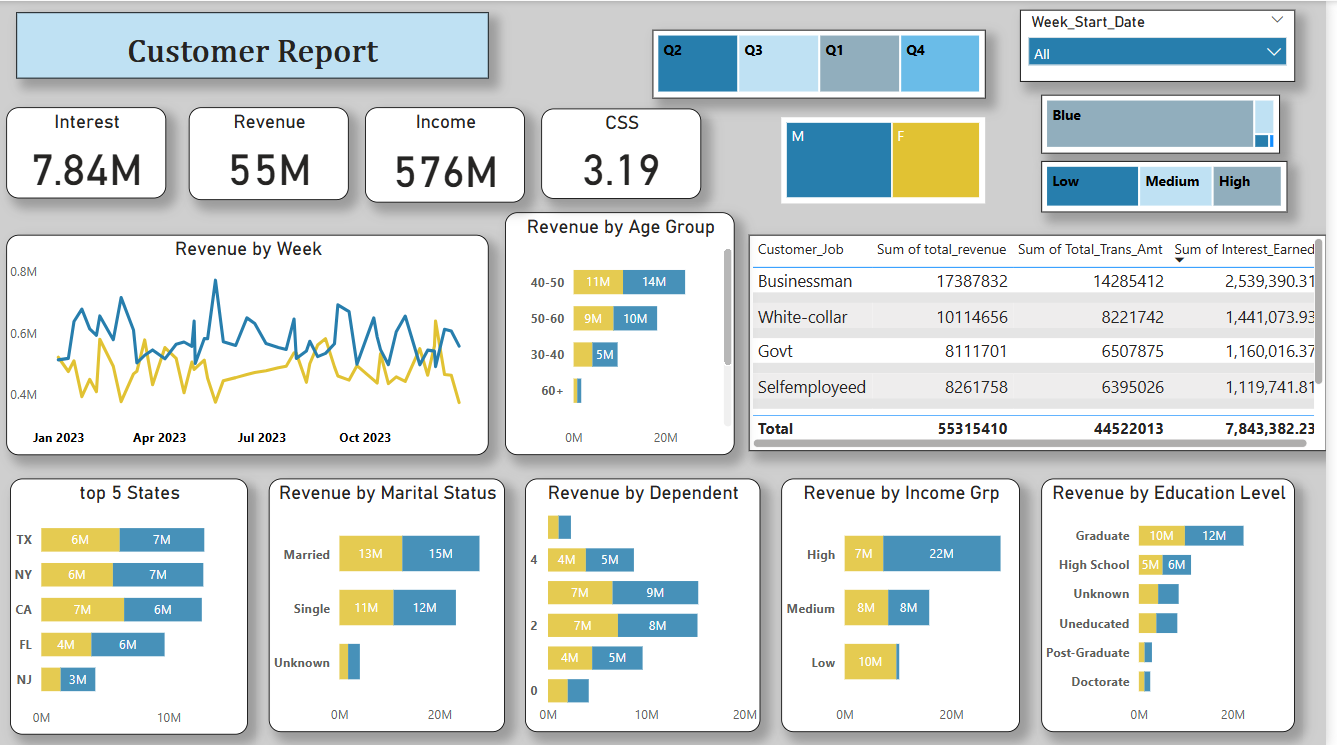

Layout of this report page (visuals, bound fields, positions):
{"tool":"powerbi","page":{"name":"customer_trans_report","canvas":[1280,720],"ordinal":1},"visuals":[{"type":"barChart","title":"Revenue by Income Grp","fields":{"Category":["customer.income_grp"],"Y":["Sum(credit_card.total_revenue)"],"Series":["customer.Gender"]},"box":[754,460.9,230.4,244.9],"z":0},{"type":"tableEx","fields":{"Values":["customer.Customer_Job","Sum(credit_card.total_revenue)","Sum(credit_card.Total_Trans_Amt)","Sum(credit_card.Interest_Earned)"]},"box":[722.7,225,557.6,209.1],"z":1000},{"type":"textbox","box":[15.7,10.9,456,63.9],"z":2000},{"type":"slicer","fields":{"Values":["credit_card.Week_Start_Date"]},"box":[984.5,8.4,265.4,70],"z":3000},{"type":"treemap","fields":{"Group":["credit_card.Qtr"],"Values":["CountNonNull(credit_card.Client_Num)"]},"box":[629.8,28.1,321.6,66],"z":4000},{"type":"treemap","fields":{"Group":["credit_card.Card_Category"],"Values":["CountNonNull(credit_card.Client_Num)"]},"box":[1005,90.5,230.4,56.7],"z":5000},{"type":"treemap","fields":{"Group":["customer.income_grp"],"Values":["CountNonNull(credit_card.Client_Num)"]},"box":[1005,154.4,237.7,49.5],"z":6000},{"type":"lineChart","title":"Revenue by Week","fields":{"Y":["Sum(credit_card.total_revenue)"],"Series":["customer.Gender"],"Category":["credit_card.Week_Start_Date.Variation.Date Hierarchy.Year","credit_card.Week_Start_Date.Variation.Date Hierarchy.Quarter","credit_card.Week_Start_Date.Variation.Date Hierarchy.Month","credit_card.Week_Start_Date.Variation.Date Hierarchy.Day"]},"box":[6.1,225,465.9,212.8],"z":7000},{"type":"treemap","fields":{"Group":["customer.Gender"],"Values":["Sum(credit_card.total_revenue)"]},"box":[754.5,112.5,196.9,83.2],"z":8000},{"type":"barChart","title":"Revenue by Marital Status","fields":{"Y":["Sum(credit_card.total_revenue)"],"Category":["customer.Marital_Status"],"Series":["customer.Gender"]},"box":[259.4,460.9,228,244.9],"z":9000},{"type":"barChart","title":"Revenue by Dependent","fields":{"Y":["Sum(credit_card.total_revenue)"],"Category":["customer.Dependent_Count"],"Series":["customer.Gender"]},"box":[506.7,460.9,226.8,244.9],"z":10000},{"type":"barChart","title":"Revenue by Age Group","fields":{"Category":["customer.Age_group"],"Y":["Sum(credit_card.total_revenue)"],"Series":["customer.Gender"]},"box":[487.4,203.9,222,234],"z":11000},{"type":"card","title":"Revenue","fields":{"Values":["Sum(credit_card.total_revenue)"]},"box":[182.2,102.5,154.4,89.3],"z":12000},{"type":"card","title":"Interest","fields":{"Values":["Sum(credit_card.Interest_Earned)"]},"box":[6,102.5,154.4,88.1],"z":13000},{"type":"card","title":"Income","fields":{"Values":["Sum(customer.Income)"]},"box":[352.3,102.5,154.4,91.7],"z":14000},{"type":"card","title":"CSS","fields":{"Values":["Avg(customer.Cust_Satisfaction_Score)"]},"box":[522.4,103.8,154.4,86.9],"z":15000},{"type":"barChart","title":"top 5 States","fields":{"Category":["customer.state_cd"],"Y":["Sum(credit_card.total_revenue)"],"Series":["customer.Gender"]},"box":[9.7,460.9,229.2,247.3],"z":16000},{"type":"barChart","title":"Revenue by Education Level","fields":{"Category":["customer.Education_Level"],"Y":["Sum(credit_card.total_revenue)"],"Series":["customer.Gender"]},"box":[1005,460.9,244.9,244.9],"z":17000}]}

Visuals, with their boxes in screenshot pixels (x1, y1, x2, y2), scaled from the page's 1280x720 canvas onto the 1337x745 screenshot:
"Revenue by Income Grp" barChart: 788,477,1028,730
tableEx - customer.Customer_Job x Sum(credit_card.total_revenue): 755,233,1336,449
textbox: 16,11,493,77
slicer - credit_card.Week_Start_Date: 1028,9,1306,81
treemap - credit_card.Qtr x CountNonNull(credit_card.Client_Num): 658,29,994,97
treemap - credit_card.Card_Category x CountNonNull(credit_card.Client_Num): 1050,94,1290,152
treemap - customer.income_grp x CountNonNull(credit_card.Client_Num): 1050,160,1298,211
"Revenue by Week" lineChart: 6,233,493,453
treemap - customer.Gender x Sum(credit_card.total_revenue): 788,116,994,202
"Revenue by Marital Status" barChart: 271,477,509,730
"Revenue by Dependent" barChart: 529,477,766,730
"Revenue by Age Group" barChart: 509,211,741,453
"Revenue" card: 190,106,352,198
"Interest" card: 6,106,168,197
"Income" card: 368,106,529,201
"CSS" card: 546,107,707,197
"top 5 States" barChart: 10,477,250,733
"Revenue by Education Level" barChart: 1050,477,1306,730
